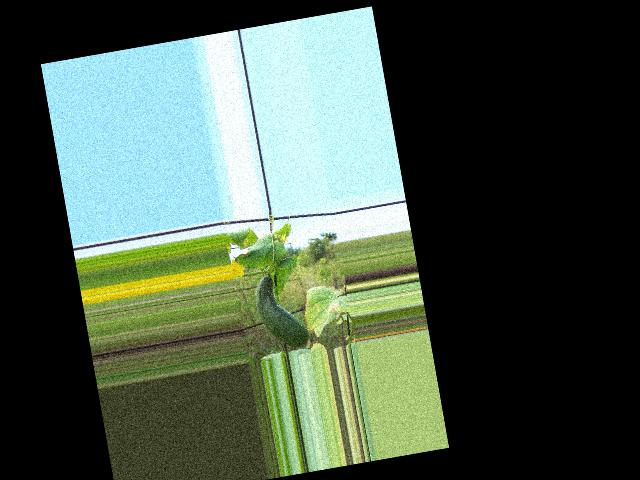cucumber: (251, 269, 311, 353)
